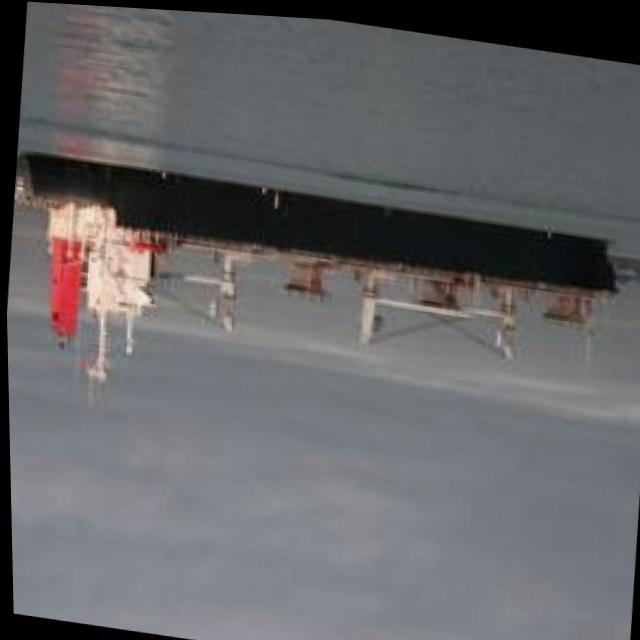ship2: (12, 147, 613, 406)
